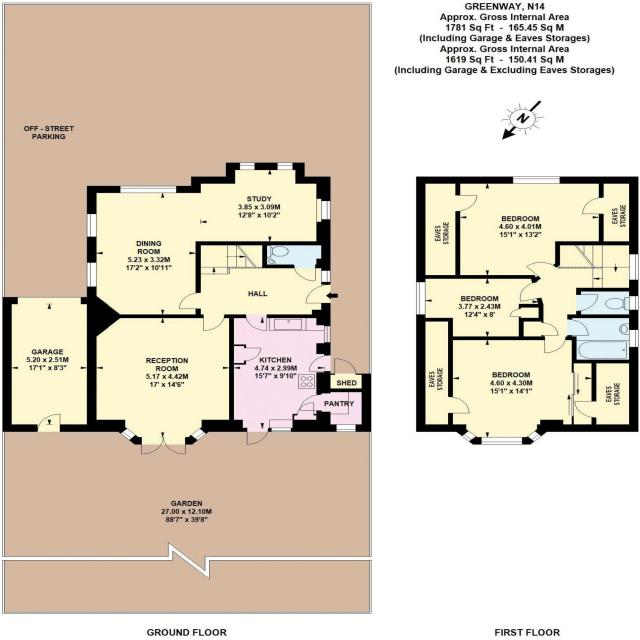DOOR: (525, 262, 557, 279), (305, 284, 331, 304), (519, 281, 542, 302), (177, 291, 201, 310), (576, 294, 599, 312), (245, 314, 268, 332), (246, 427, 269, 445), (544, 336, 566, 354), (308, 355, 331, 372), (202, 314, 225, 331), (293, 265, 316, 282), (567, 319, 589, 336)
ROOM: (86, 162, 331, 318), (86, 314, 235, 455), (455, 176, 604, 282), (447, 336, 577, 445), (229, 314, 331, 445), (416, 275, 543, 340)
WINDOW: (119, 185, 177, 194), (315, 198, 331, 223), (512, 176, 560, 184), (416, 281, 426, 315), (481, 437, 523, 445), (628, 253, 639, 281), (86, 262, 97, 288), (86, 213, 97, 238), (119, 427, 137, 441), (190, 428, 207, 441), (526, 430, 542, 442), (461, 430, 477, 442), (629, 330, 639, 348), (336, 424, 356, 432), (629, 296, 639, 311), (321, 270, 331, 283), (239, 162, 255, 170), (277, 162, 293, 170), (324, 326, 331, 343), (271, 428, 292, 432)
